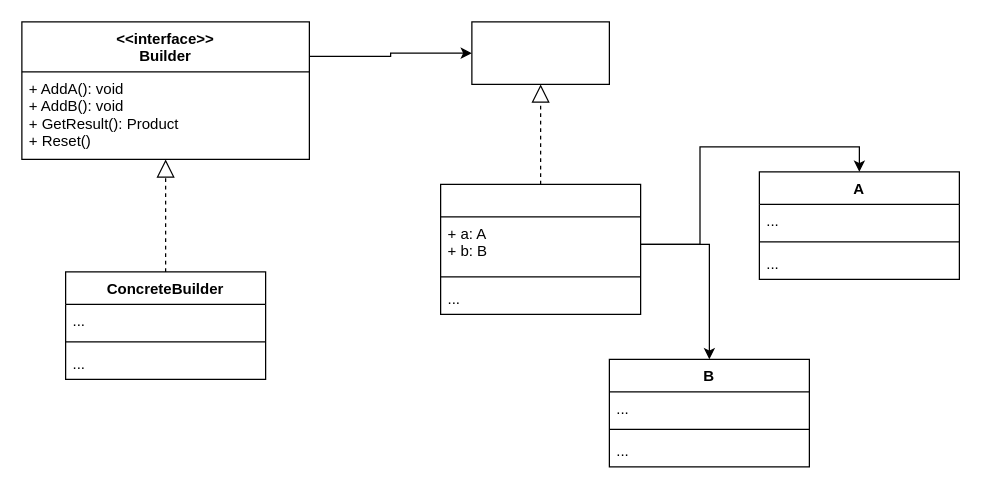
Image size: 981x493. Some labels were removed from this diagram. Here are the shapes that lost their labels. From the top down, the box of each, then its label:
(471, 21, 609, 84): <<interface>> Product
(439, 183, 641, 314): ConcreteProduct
